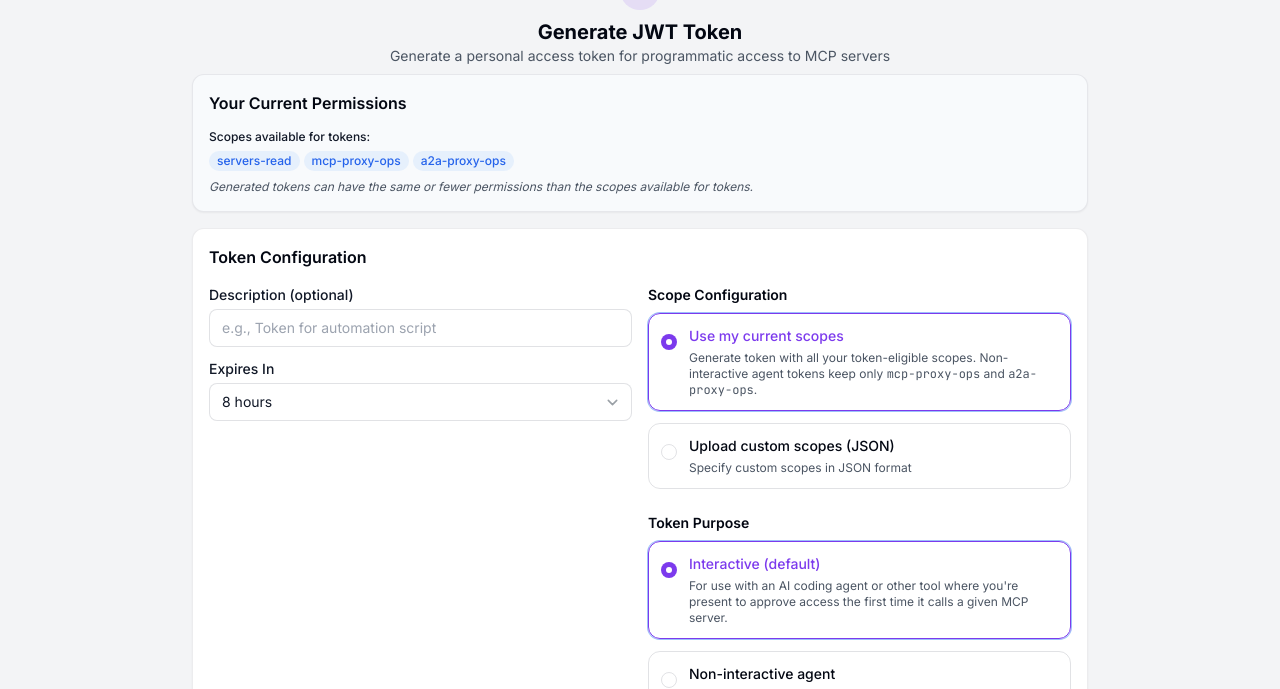
Test: TokenGeneration › success card lists the scopes granted in the token and no description
The width and height of the screenshot is (1280, 689).
Type "my automation" into the field labelled "Description (optional)" at (420, 328), box [209,309,632,347]
(page scrolled)
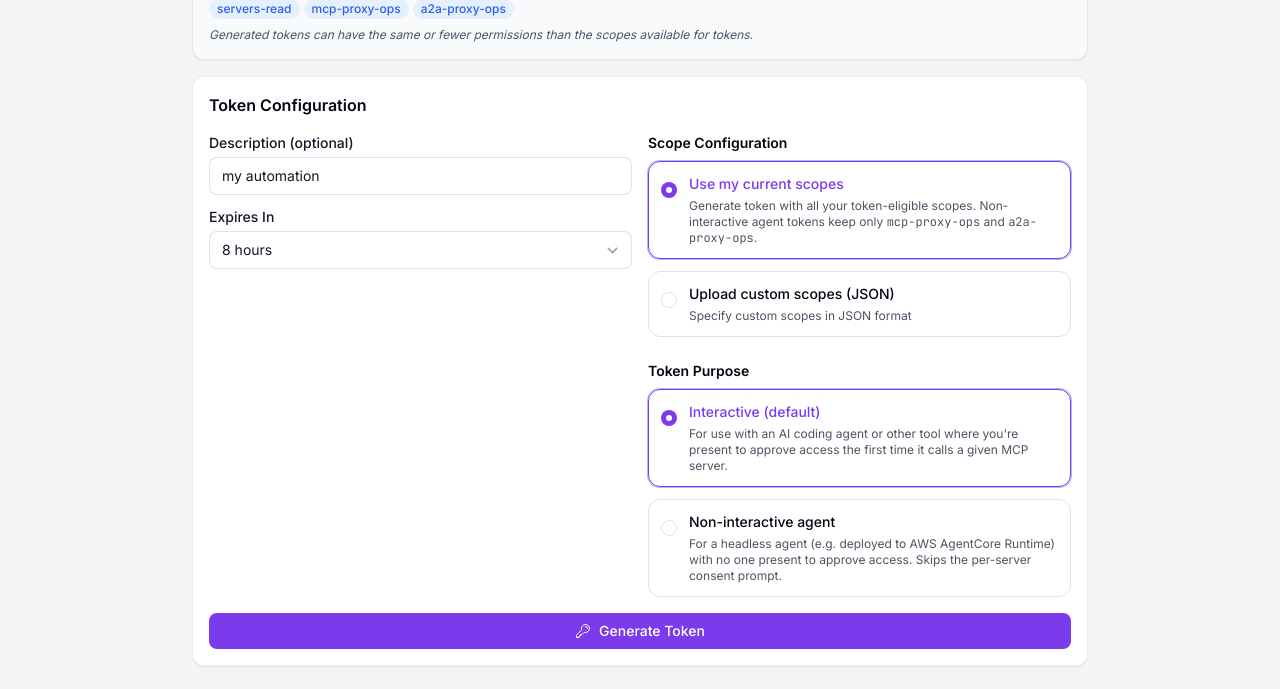
Click the button "Generate Token" at (640, 631), box [209,613,1071,649]
(page scrolled)
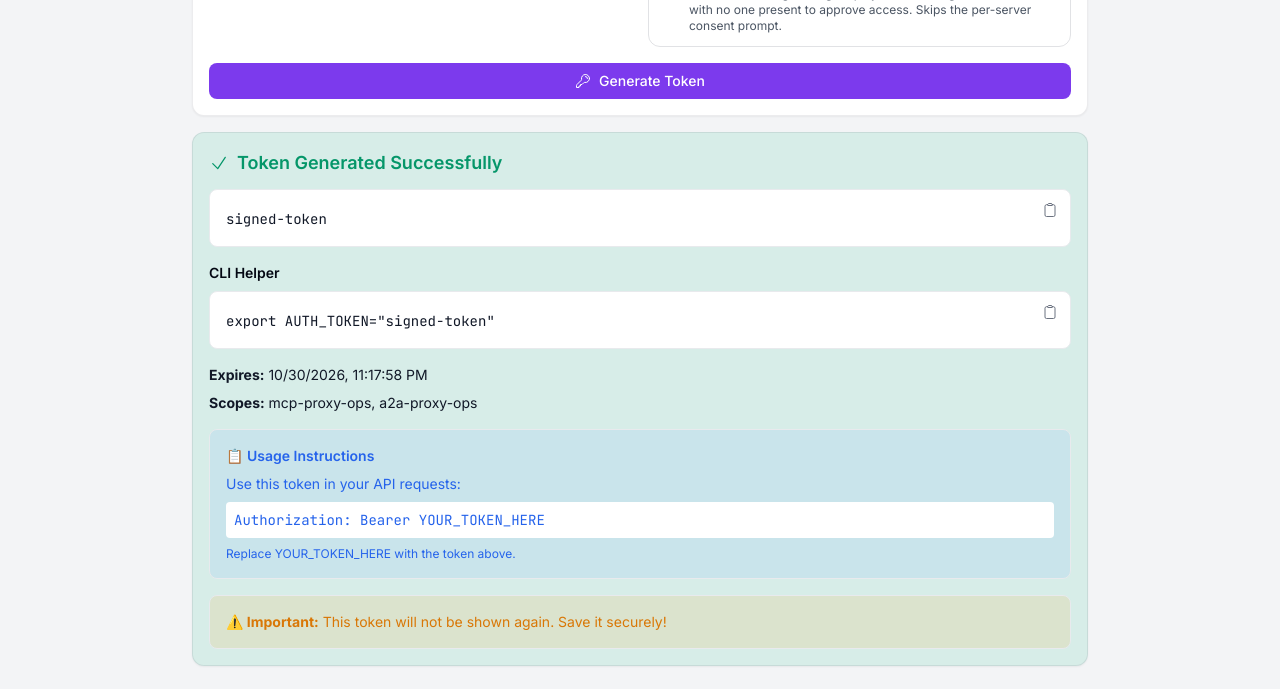
Expected: the heading "Token Generated Successfully" is shown, [237,149,502,177]
Expected: the text "mcp-proxy-ops, a2a-proxy-ops" is shown, [269,394,477,411]
